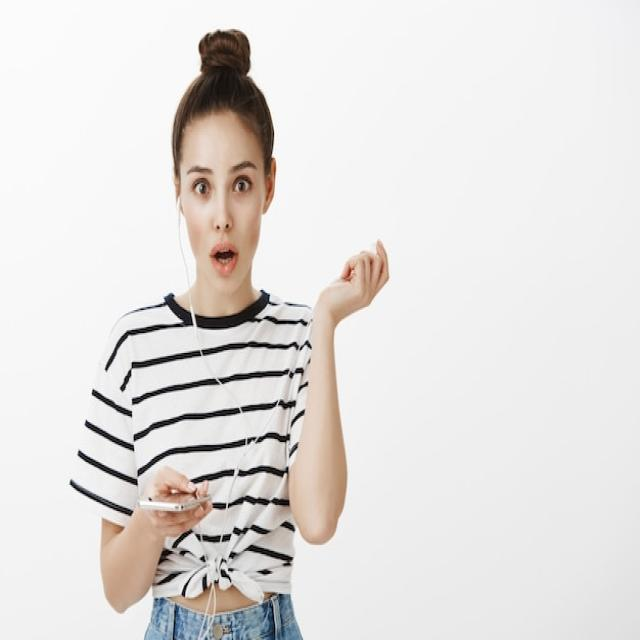Earphone: (176, 191, 378, 640)
